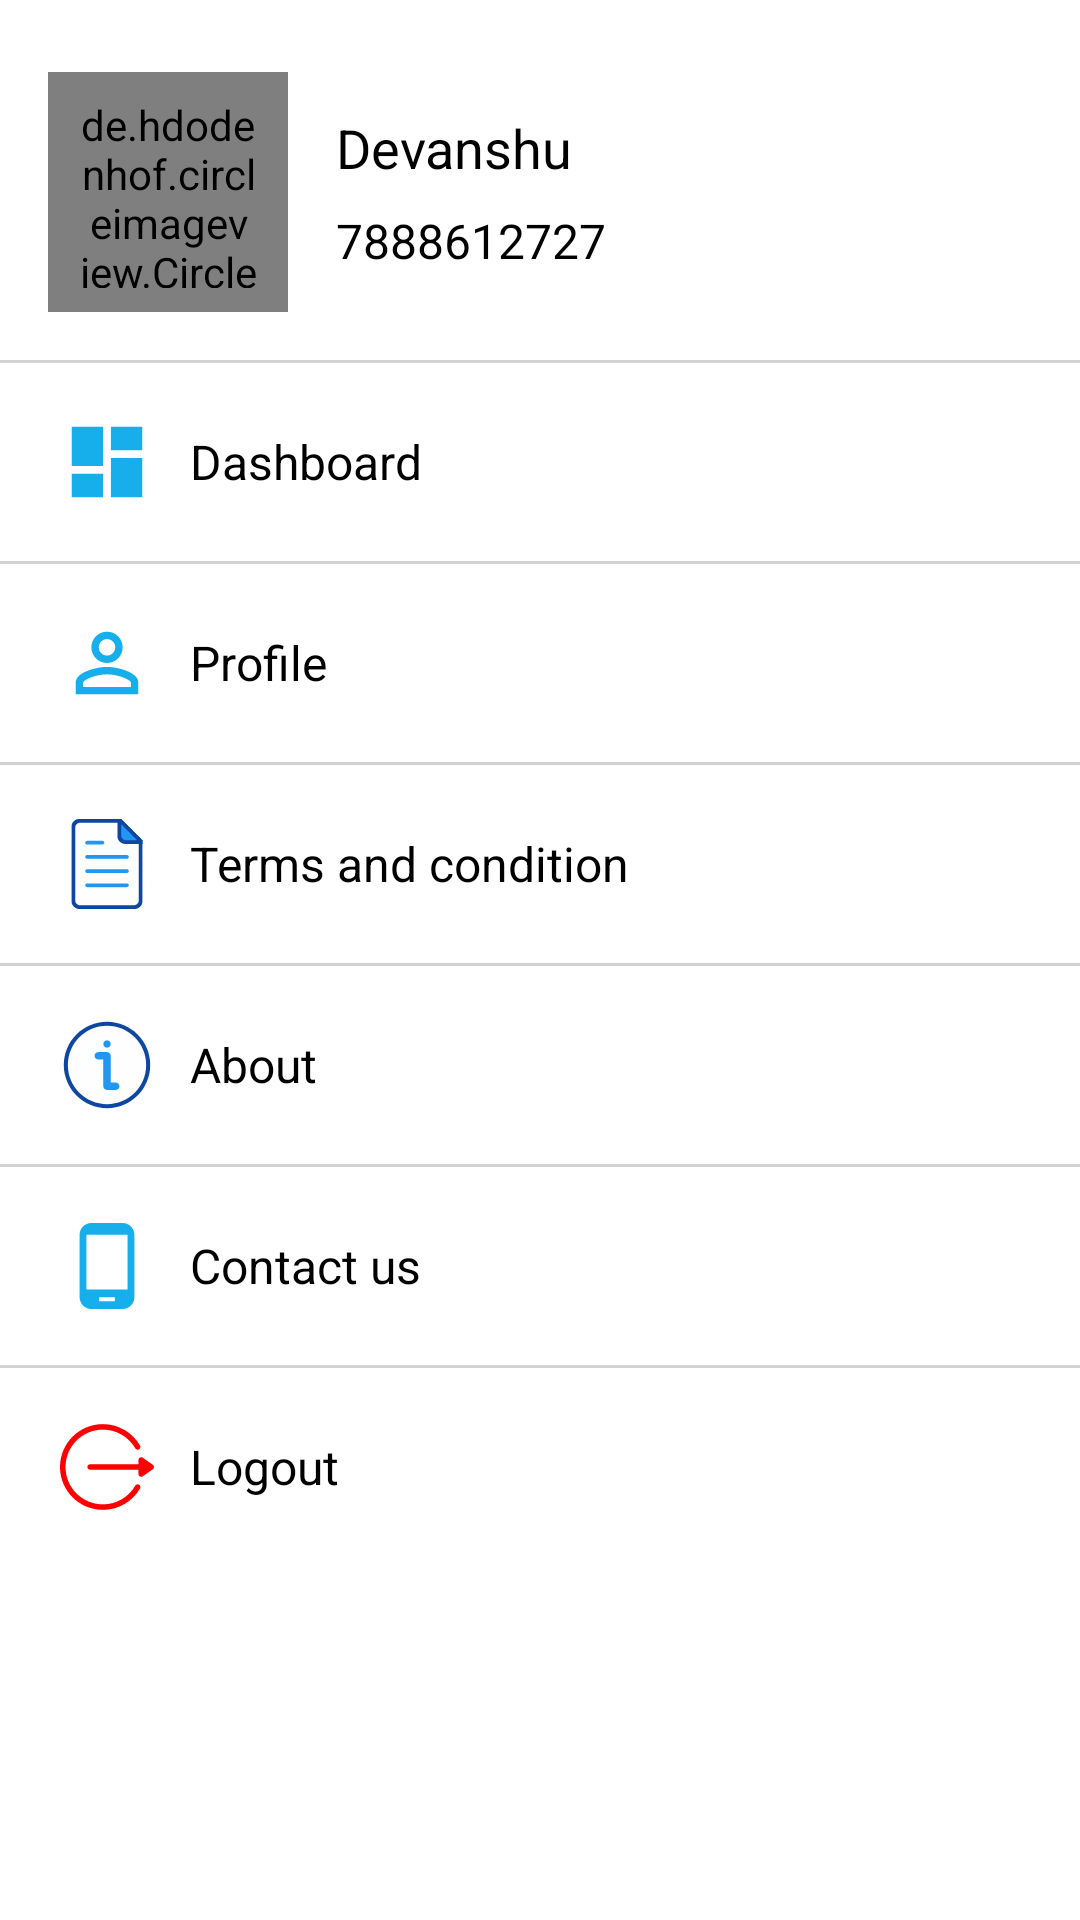

Icons on this 1080px×1920px Android screen, each with its box as bbox=(x1, y1, x2, y2):
contacts: bbox=(79, 1223, 135, 1309)
person: bbox=(75, 631, 139, 695)
